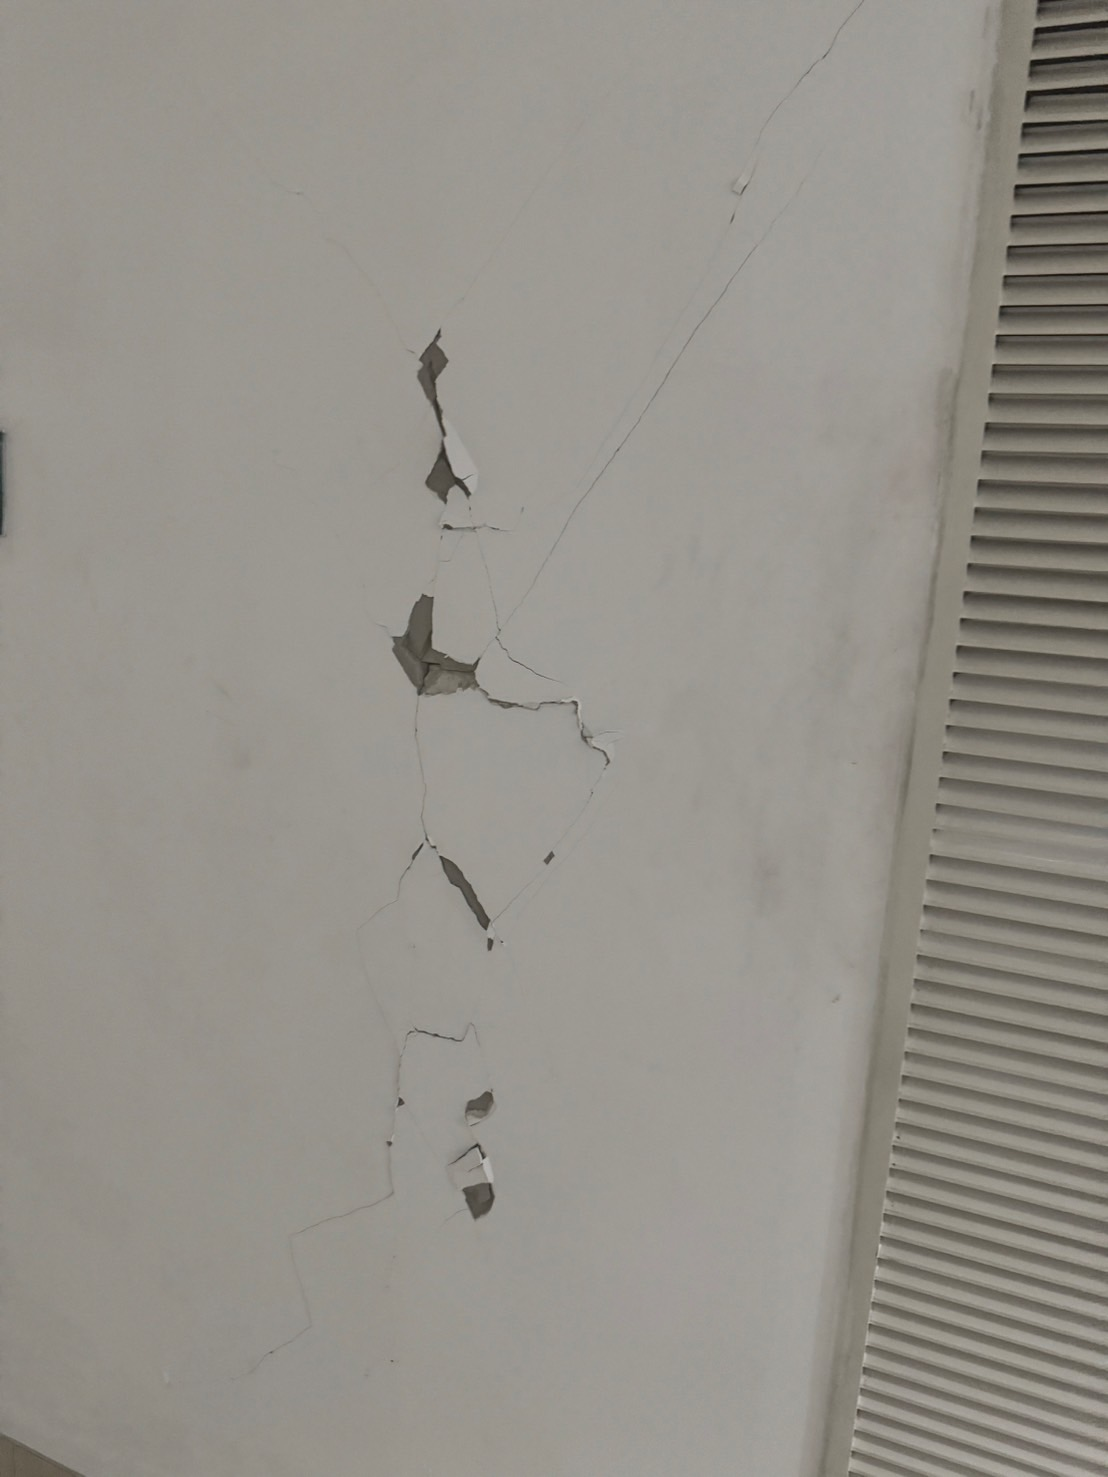Low: (189, 1, 873, 1398)
